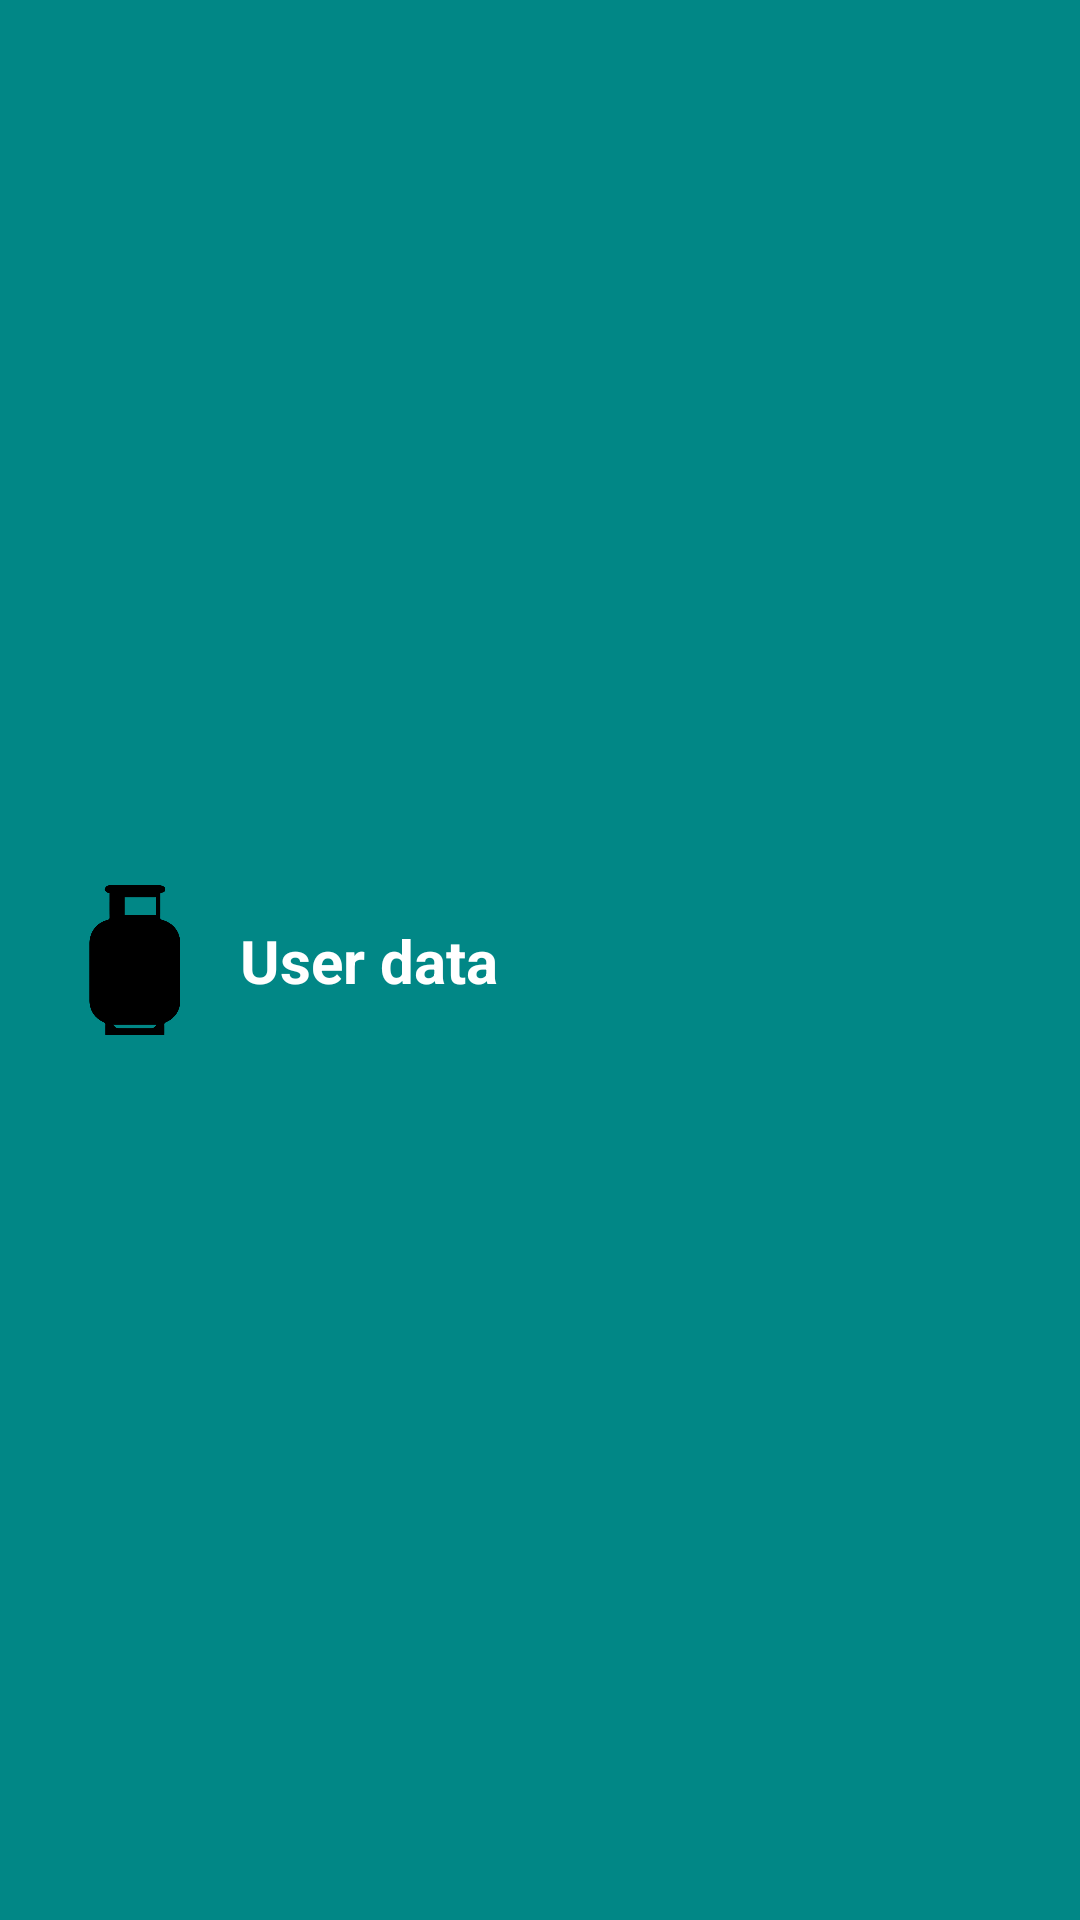

Icons on this 1080x1920 Android screen, each with the point to tap as [x,y]:
gas: [134,960]
